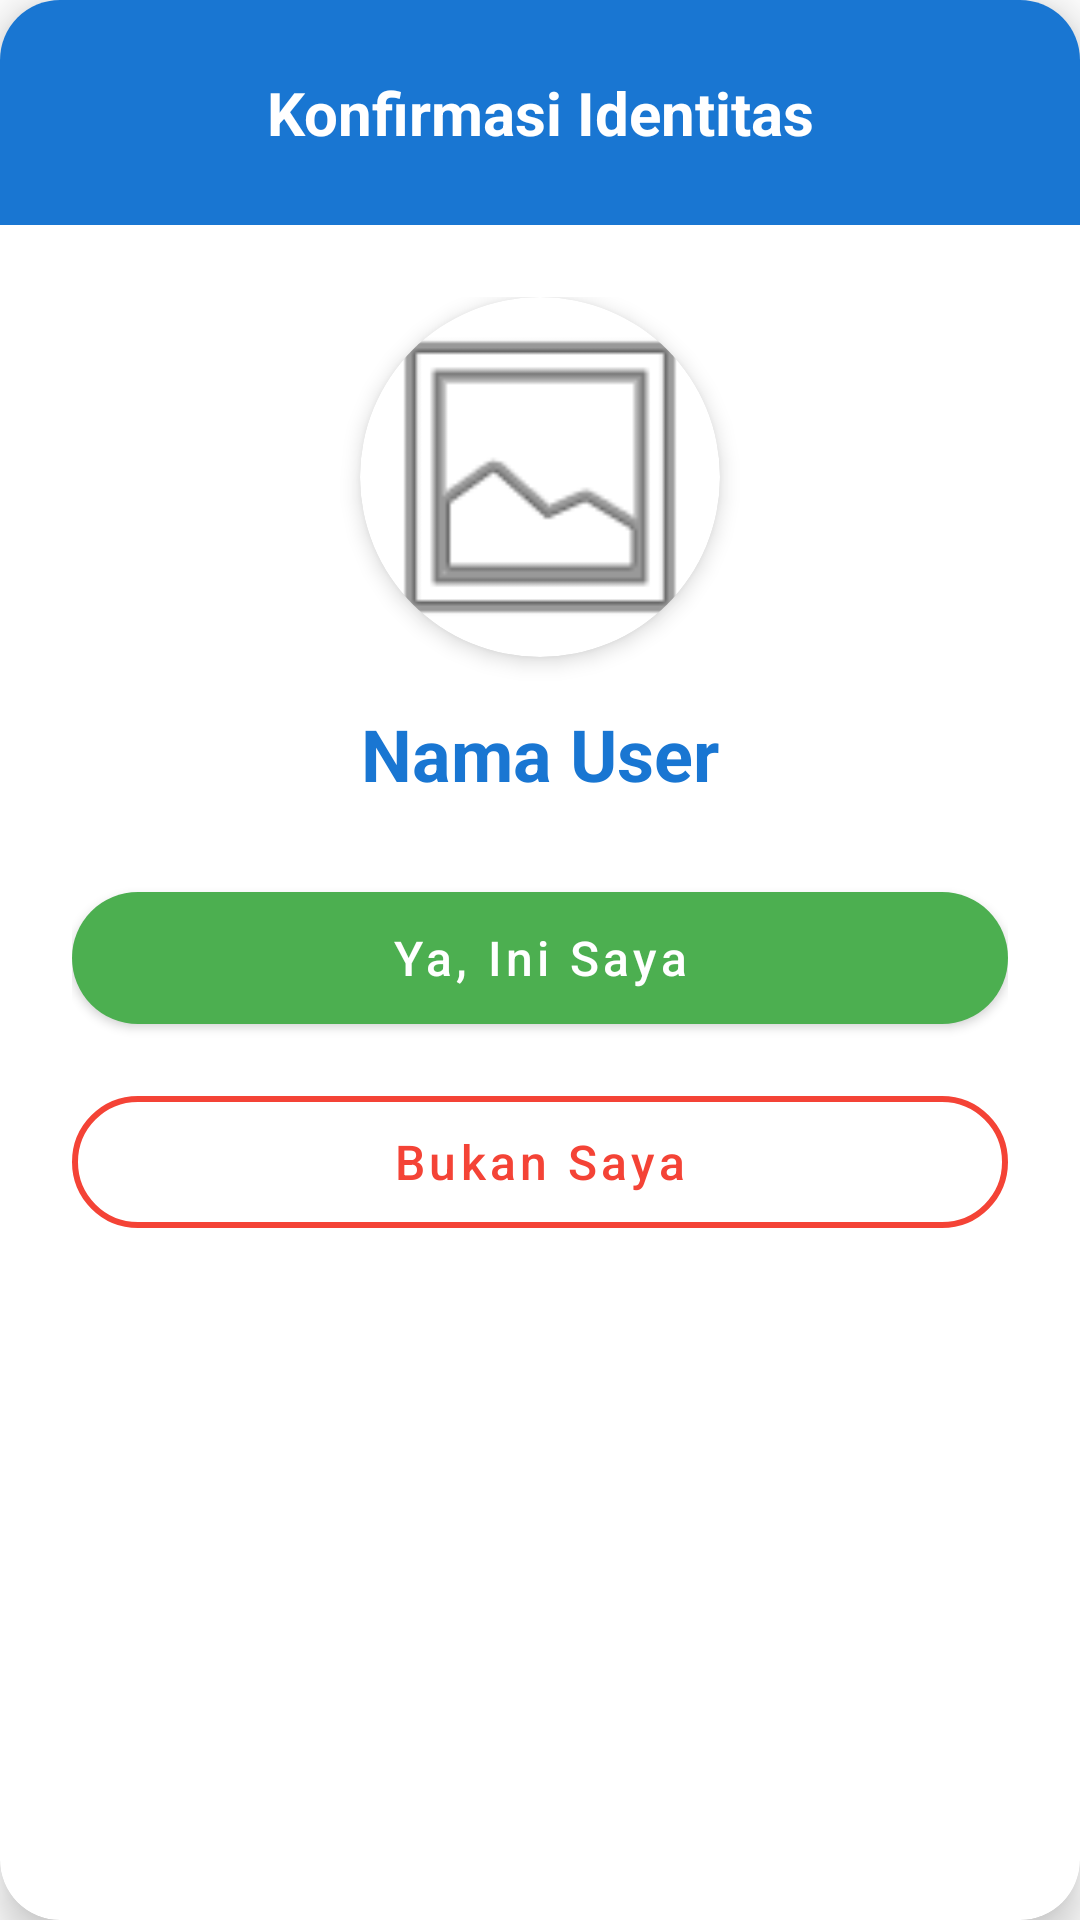

Point at icon controls on the screen. Image size 1080px×1920px, points as (x=x, y=y).
gallery: (x=540, y=499)
